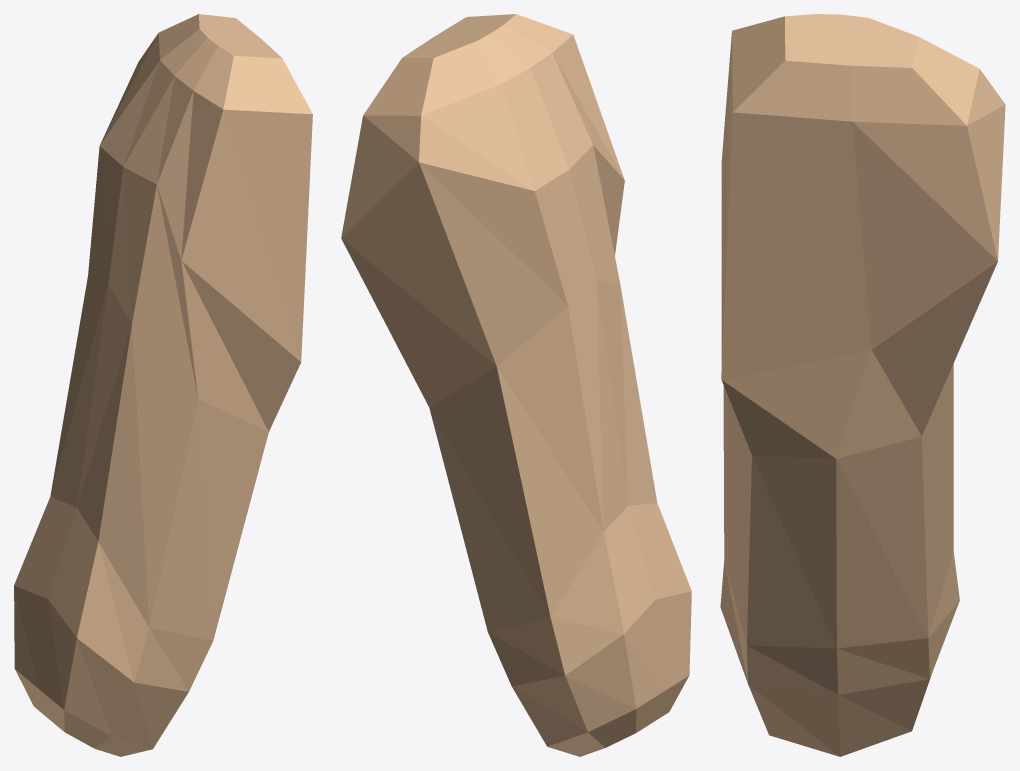
Rendered from RFing30_mesh.dae.
The picture shows the model from 3 angles, left to right: view 1: azimuth 30°, elevation 25°; view 2: azimuth 150°, elevation 25°; view 3: azimuth 270°, elevation 25°; orthographic projection. The views are drawn at different scales.
Parts seen in each view (by area): view 1: RFing30; view 2: RFing30; view 3: RFing30.
Part boxes in pixels (left/top/right/bottom): RFing30: left=14, top=14, right=312, bottom=756; RFing30: left=341, top=14, right=691, bottom=756; RFing30: left=720, top=14, right=1005, bottom=756.
Size of the model in its own units: 0.0271 by 0.0708 by 0.0232.
